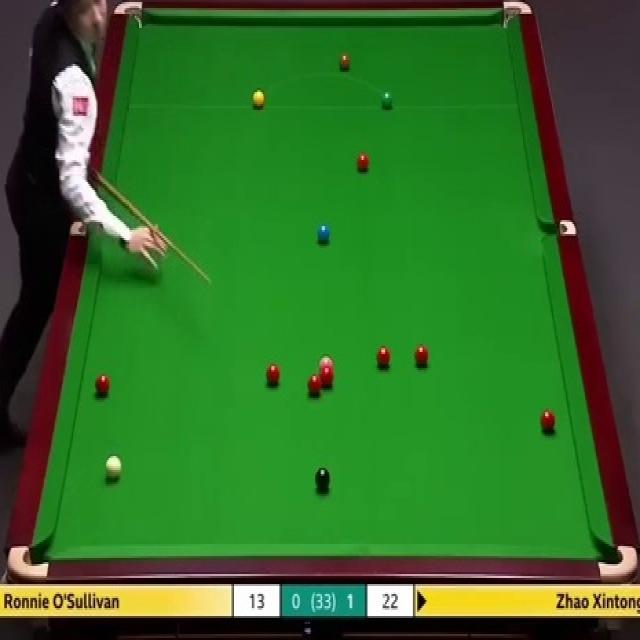black-ball: (316, 467, 332, 492)
blue-ball: (315, 222, 330, 244)
brown-ball: (339, 52, 351, 72)
green-ball: (380, 89, 393, 110)
pink-ball: (317, 356, 333, 370)
red-ball: (264, 361, 282, 388), (375, 345, 392, 371), (540, 408, 556, 433), (94, 373, 110, 397), (306, 375, 322, 398), (414, 344, 429, 367), (318, 367, 334, 388), (355, 152, 370, 173)
white-ball: (105, 455, 122, 480)
yellow-ball: (252, 88, 265, 109)
